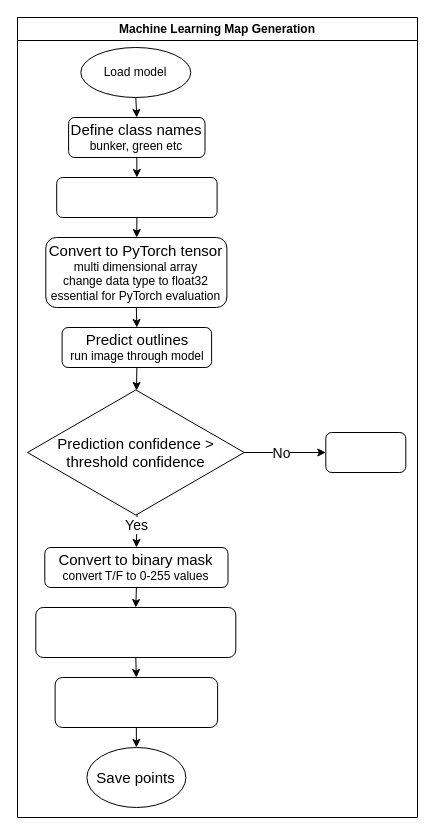
The diagram is 435 pixels wide and 835 high, and some of its shapes have lost their labels. Here are the shapes that lost their labels. From the top down, the centre of each, then its label:
At (x=136, y=197): "Convert image to RGB change colour format to RGB".
At (x=365, y=452): "Discard prediction".
At (x=135, y=632): "Find contours with OpenCV 255 = white, 0 = black find boundaries".
At (x=136, y=702): "Find largest contour discard smaller contours reduce amount to be saved".
